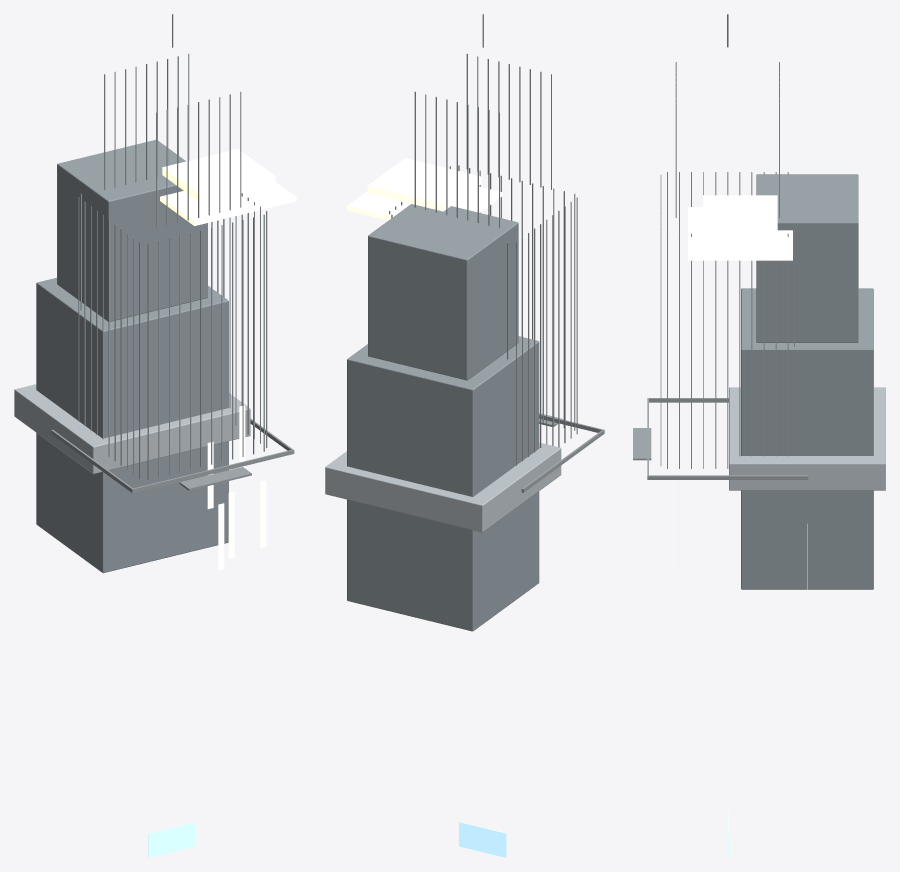
The model's file is tower.glb.
3 renders of one model, left to right at view 1: azimuth 30°, elevation 25°; view 2: azimuth 150°, elevation 25°; view 3: azimuth 270°, elevation 25°, orthographic.
Visible parts, largest first — view 1: wall_dark, trim_metal, window_lit, wall_panel, glass_cool; view 2: wall_dark, trim_metal, wall_panel, window_lit, glass_cool; view 3: wall_dark, trim_metal, wall_panel, window_lit.
Boxes of the visible parts, x1,y1,x2,y2 form: wall_dark: (36,140,228,573); trim_metal: (51,14,294,493); window_lit: (160,149,296,570); wall_panel: (14,384,250,473); glass_cool: (148,822,196,857); wall_dark: (347,204,539,631); trim_metal: (389,14,604,492); wall_panel: (325,442,561,532); window_lit: (347,158,501,220); glass_cool: (459,822,506,857); wall_dark: (741,174,873,589); trim_metal: (633,14,808,479); wall_panel: (729,387,885,490); window_lit: (673,195,807,591).
Bounding box in the file's own units: 35.06 × 152 × 41.9.
